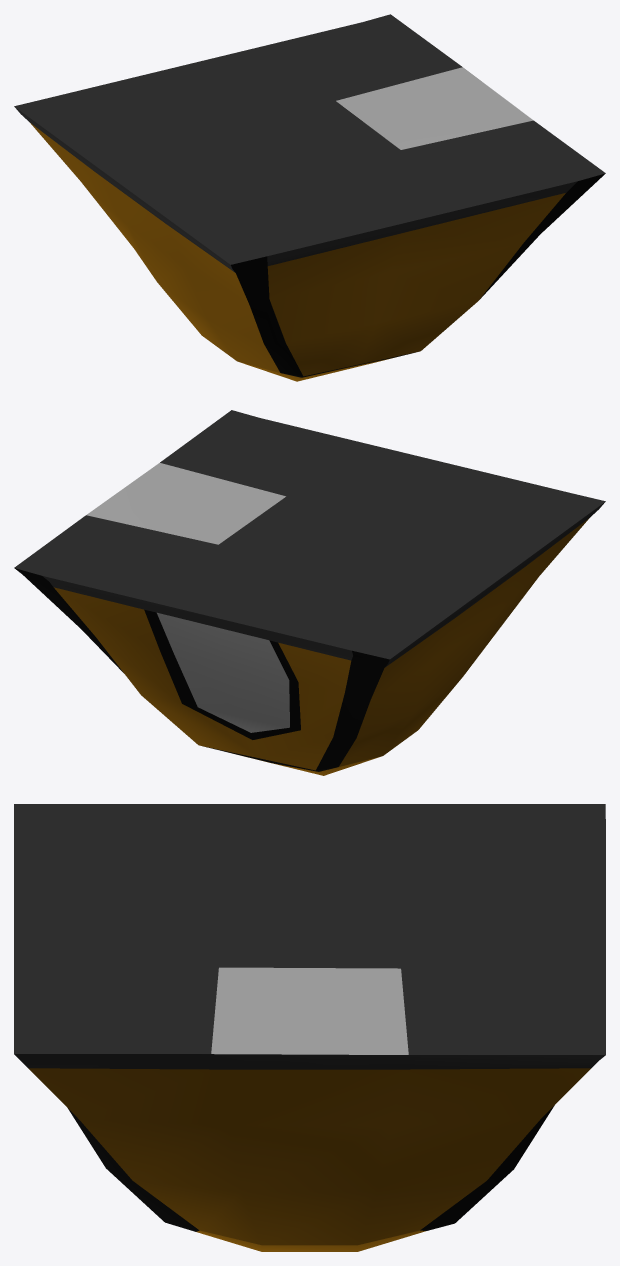
File: Tent1O.fbx
The picture shows the model from 3 angles, top to bottom: view 1: azimuth 30°, elevation 25°; view 2: azimuth 150°, elevation 25°; view 3: azimuth 270°, elevation 25°; orthographic projection. The views are drawn at different scales.
Parts seen in each view (by area): view 1: pCube1; view 2: pCube1; view 3: pCube1.
Boxes of the visible parts, x1,y1,x2,y2 form: pCube1: (14,14,605,381); pCube1: (14,410,605,775); pCube1: (14,804,605,1251).
Size of the model in its own units: 2.05 by 1.15 by 2.04.
